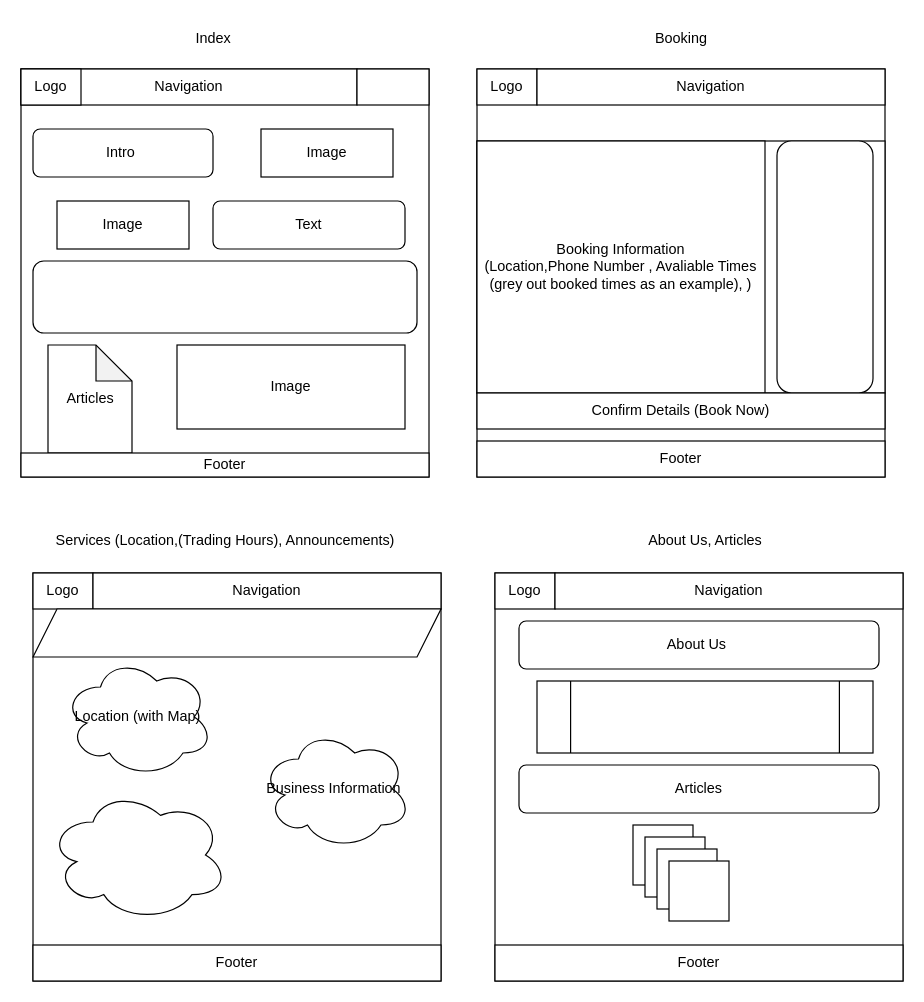
This 924x1002 diagram has some shape labels left out. The shapes that lost their labels are listed below. From the top down, each one's box as (x1, y1, x2, y2) in pixels, then its label:
(356, 68, 429, 105): Book a check-up
(776, 140, 873, 393): Patient Information
(32, 260, 417, 333): Meet our staff
(32, 608, 441, 657): Anouncements
(536, 680, 873, 753): About Us information
